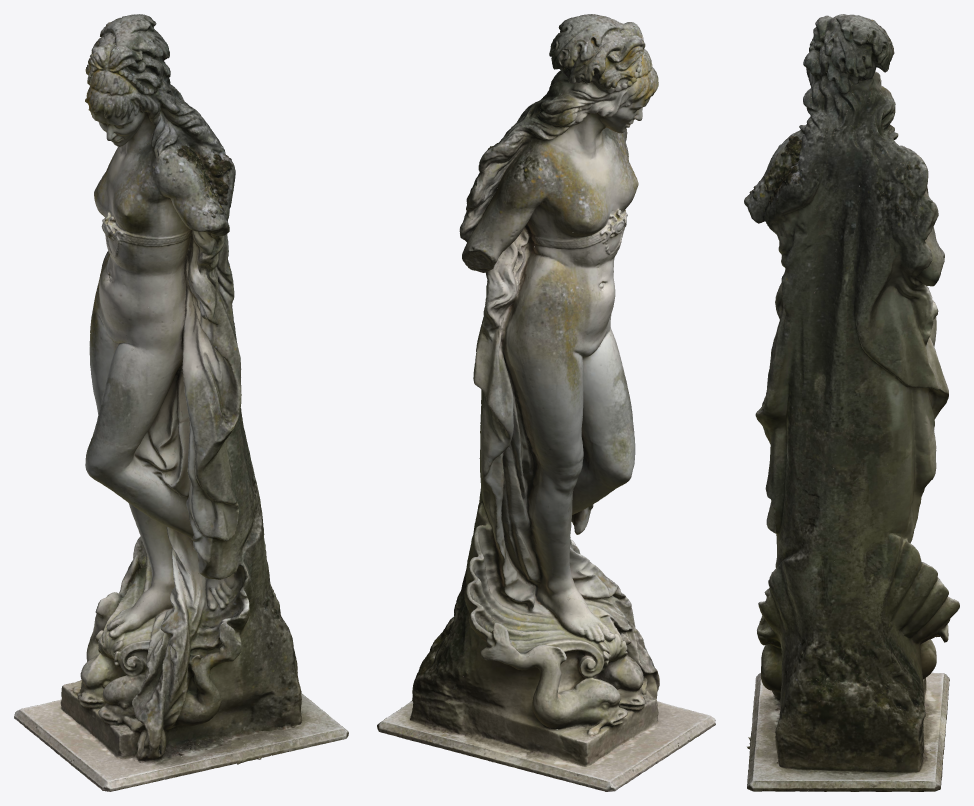
Rendered from venus.gltf.
3 views of the same model, side by side, from view 1: azimuth 30°, elevation 25°; view 2: azimuth 150°, elevation 25°; view 3: azimuth 270°, elevation 25° (orthographic). The views are drawn at different scales.
Size of the model in its own units: 7.78 by 21.68 by 6.1.
Materials: 2 (1 with a texture image).
